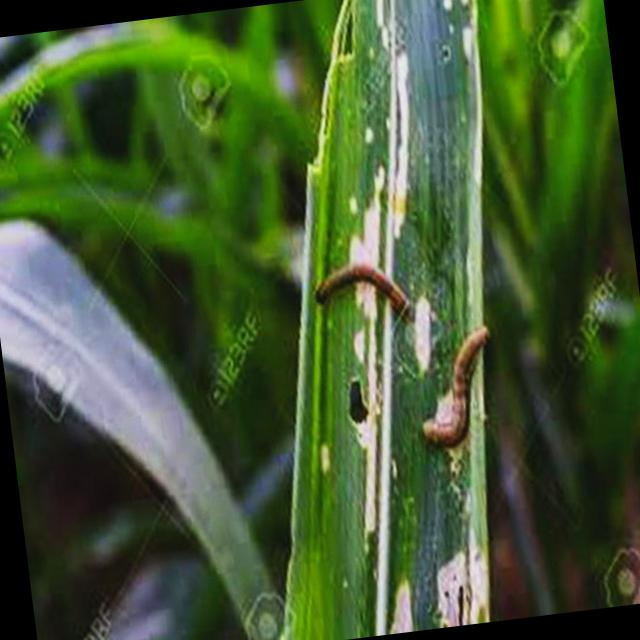pest: (417, 322, 503, 443), (319, 259, 416, 323)
